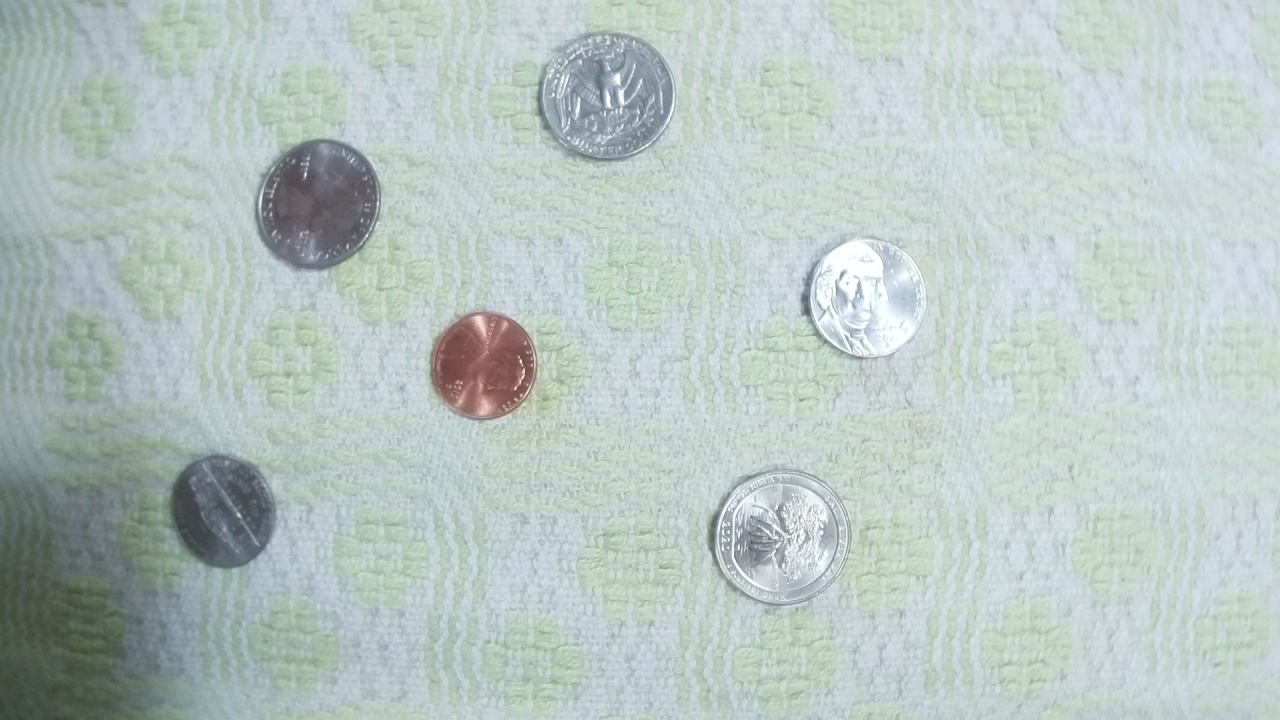nickel: (806, 236, 928, 359), (170, 453, 279, 569)
penny: (431, 310, 538, 420)
quarter: (710, 468, 854, 608), (535, 31, 678, 161), (254, 137, 382, 270)
